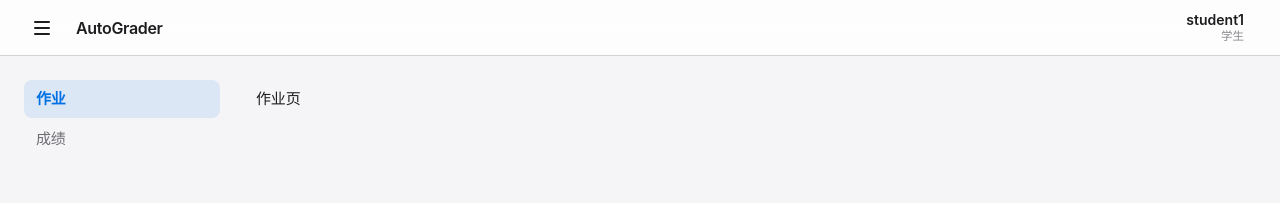
it: 角色导航与账户菜单 › 学生账户菜单只有身份与退出登录
Click the button with test id "account-menu-button".
click(1215, 28)  # box [1174,8,1256,48]
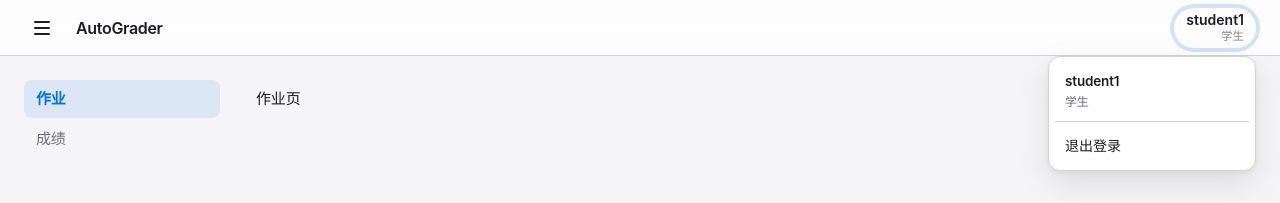
Now the 2nd text "student1" is shown, box [1065,72,1119,88]
Now the button with test id "account-logout" is shown, box [1055,128,1249,164]
